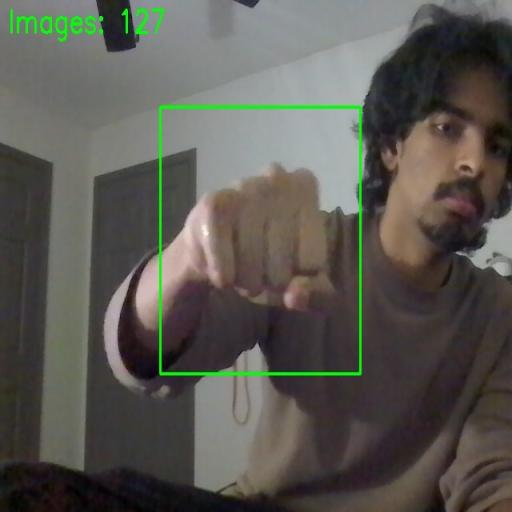Backspace: (161, 106, 360, 370)
